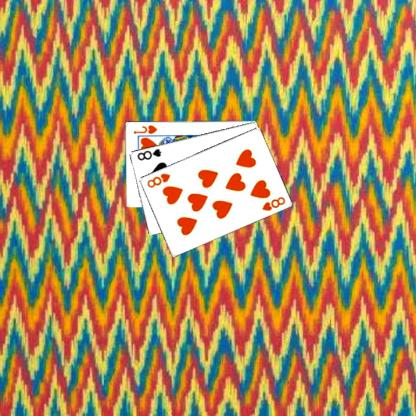8H: (146, 171, 173, 189), (261, 194, 287, 212)
8S: (136, 146, 164, 161)
JH: (133, 122, 160, 134)
